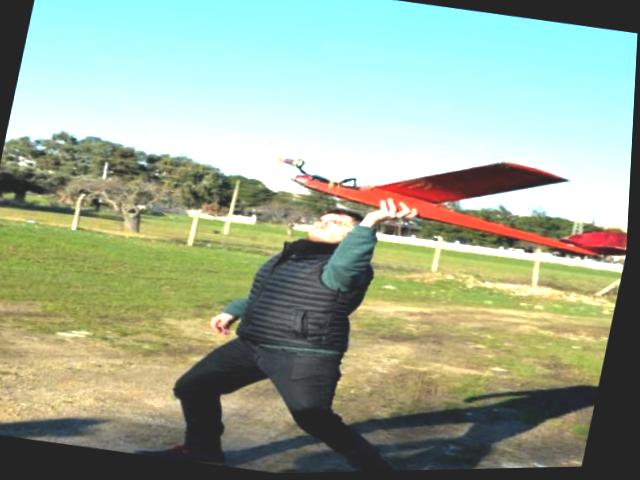iha: (253, 90, 636, 299)
